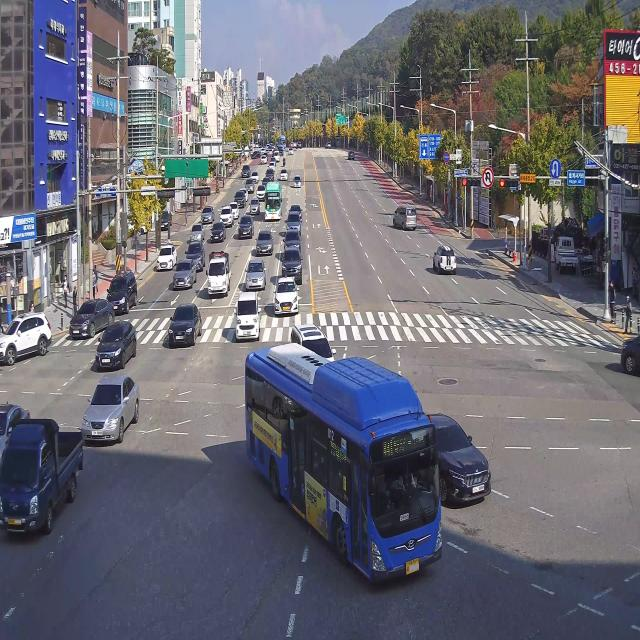Bus: (239, 332, 449, 595), (261, 180, 285, 226), (276, 133, 288, 149)
Car: (405, 393, 499, 537), (75, 366, 144, 462), (0, 303, 57, 382), (92, 310, 140, 377), (162, 294, 206, 366), (64, 298, 120, 342), (230, 288, 266, 350), (430, 242, 464, 286), (273, 276, 302, 320), (169, 252, 199, 294), (242, 253, 269, 293), (389, 202, 420, 235), (280, 242, 304, 284), (155, 239, 178, 273), (254, 228, 276, 258), (234, 212, 255, 242), (209, 217, 227, 246), (284, 208, 302, 234), (188, 222, 206, 245), (199, 204, 215, 226), (232, 191, 248, 210), (247, 195, 261, 216), (344, 148, 357, 164), (240, 163, 252, 180), (292, 172, 302, 190), (280, 168, 289, 183), (287, 146, 295, 157), (260, 154, 267, 166)
Motorcycle: (281, 156, 288, 167)
Truck: (0, 396, 89, 547), (204, 248, 234, 299), (552, 232, 578, 275)
